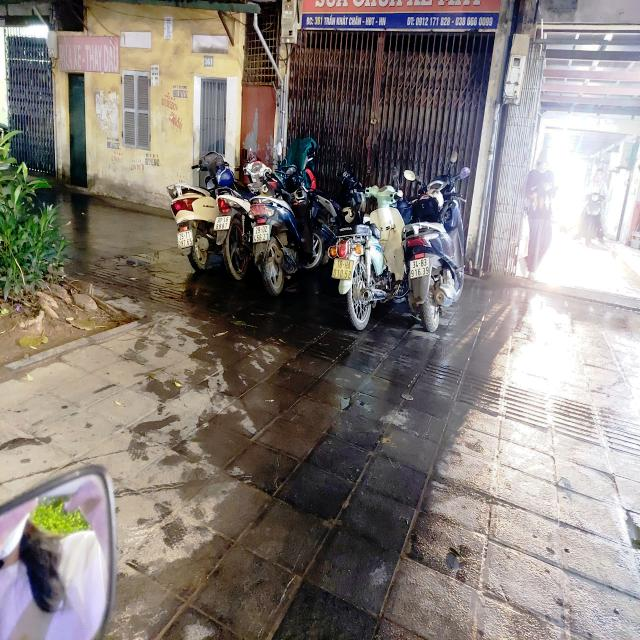license_plate: (331, 257, 357, 283), (410, 256, 432, 281), (176, 229, 196, 252), (253, 223, 272, 245), (213, 216, 234, 232)
